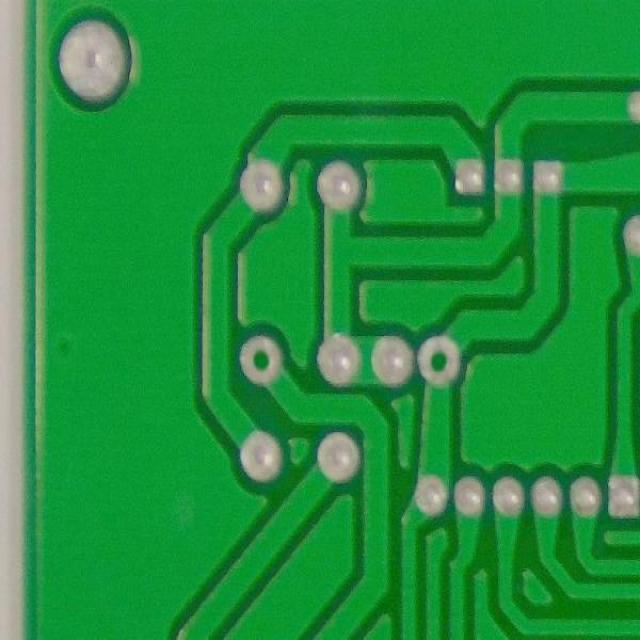missing hole: (236, 328, 288, 393), (414, 330, 465, 390)
